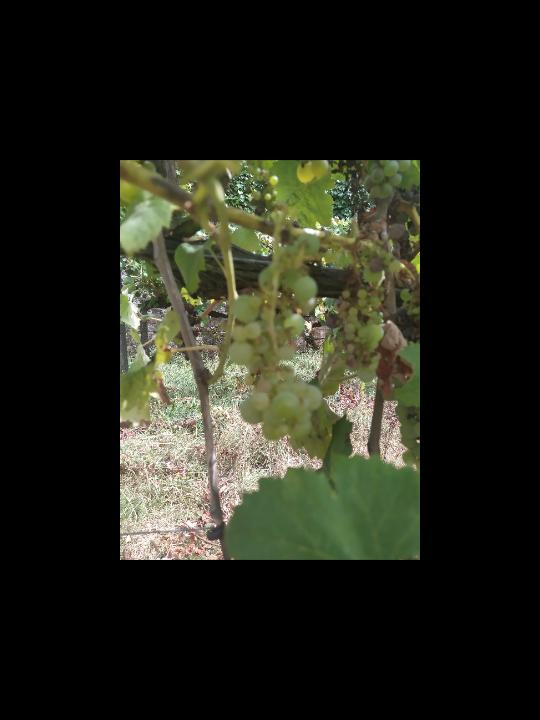grape: (226, 257, 325, 451)
